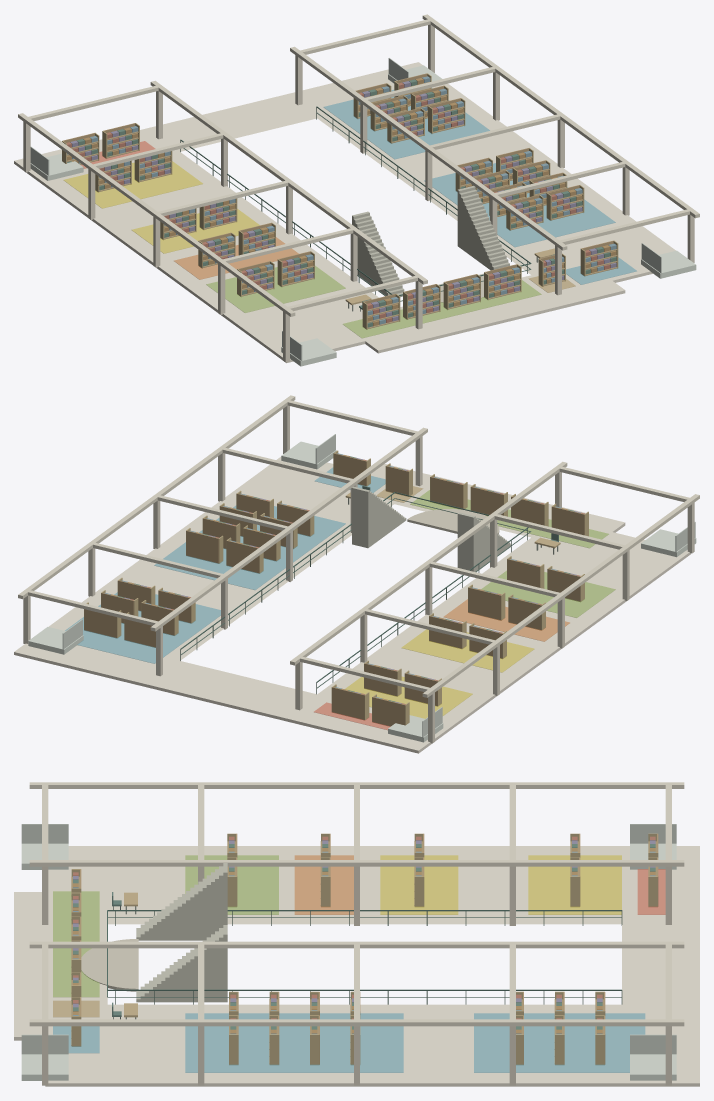
Rendered from 图书馆_2楼_空间剖切.glb.
The picture shows the model from 3 angles, top to bottom: view 1: azimuth 30°, elevation 25°; view 2: azimuth 150°, elevation 25°; view 3: azimuth 270°, elevation 25°; orthographic projection. The views are drawn at different scales.
Visible parts, largest first — view 1: guide_outline_floor_slab, guide_function_tint (×8), schematic_beam (×4), side_gallery_beam (×10), corner_service_room (×3); view 2: guide_outline_floor_slab, rack_back (×25), guide_function_tint (×7), schematic_beam (×4), side_gallery_beam (×10), corner_service_room (×4), central_stair_tread (×2), photo_guided_curved_landing; view 3: guide_outline_floor_slab, guide_function_tint (×10), schematic_beam (×4), side_gallery_beam (×8), corner_service_room (×4), service_partition (×4), photo_guided_curved_landing, atrium_rail_top (×2).
Part boxes in pixels (left/top/right/bottom): guide_outline_floor_slab: left=14, top=62, right=675, bottom=362; guide_function_tint (×8): left=63, top=88, right=636, bottom=338; schematic_beam (×4): left=18, top=14, right=699, bottom=316; side_gallery_beam (×10): left=27, top=19, right=690, bottom=311; corner_service_room (×3): left=30, top=153, right=696, bottom=366; guide_outline_floor_slab: left=14, top=456, right=690, bottom=753; rack_back (×25): left=84, top=453, right=584, bottom=726; guide_function_tint (×7): left=65, top=490, right=615, bottom=718; schematic_beam (×4): left=18, top=395, right=699, bottom=697; side_gallery_beam (×10): left=26, top=400, right=690, bottom=691; corner_service_room (×4): left=28, top=441, right=696, bottom=742; central_stair_tread (×2): left=352, top=486, right=475, bottom=571; photo_guided_curved_landing: left=407, top=509, right=499, bottom=534; guide_outline_floor_slab: left=14, top=846, right=699, bottom=1086; guide_function_tint (×10): left=53, top=855, right=665, bottom=1072; schematic_beam (×4): left=29, top=782, right=684, bottom=1026; side_gallery_beam (×8): left=42, top=783, right=671, bottom=1020; corner_service_room (×4): left=21, top=843, right=676, bottom=1080; service_partition (×4): left=21, top=824, right=676, bottom=1054; photo_guided_curved_landing: left=81, top=939, right=138, bottom=991; atrium_rail_top (×2): left=107, top=910, right=621, bottom=990.
Size of the model in its own units: 36.42 by 4.9 by 44.
